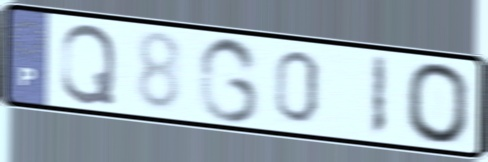0: (271, 47, 326, 128)
8: (133, 28, 186, 116)
G: (194, 34, 262, 126)
I: (366, 53, 391, 141)
O: (402, 59, 473, 147)
Q: (57, 21, 120, 107)
